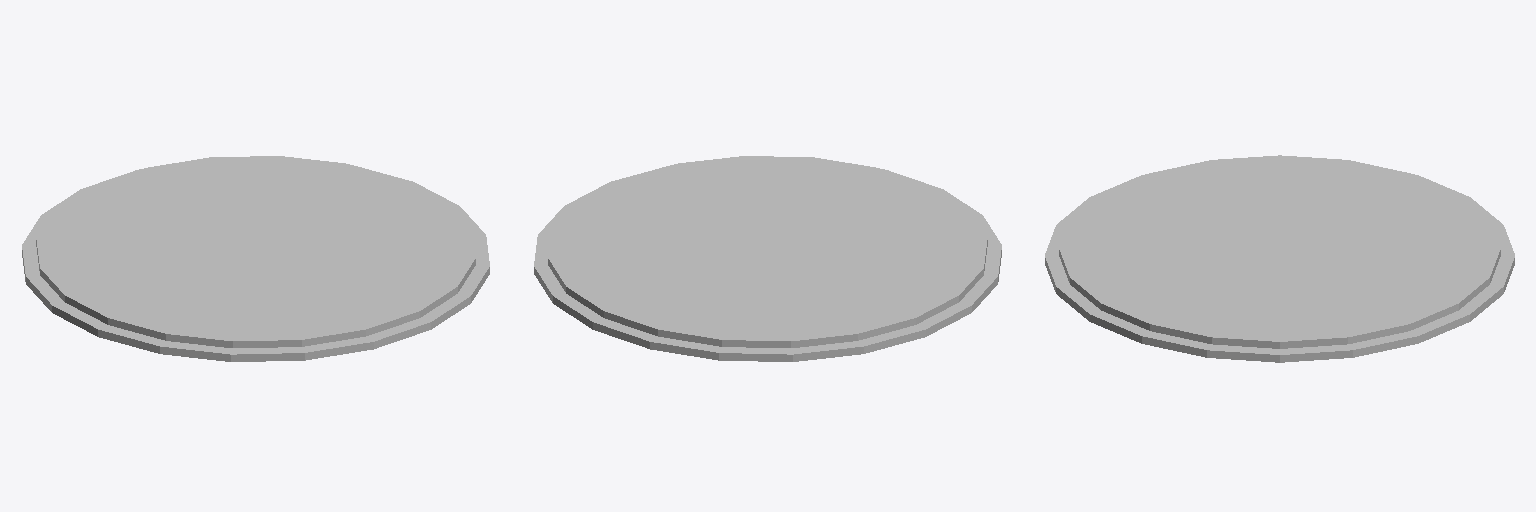
File: diasThing.obj
3 renders of one model, left to right at view 1: azimuth 30°, elevation 25°; view 2: azimuth 150°, elevation 25°; view 3: azimuth 270°, elevation 25°, orthographic.
Visible parts, largest first — view 1: pCylinder3_pCylinder3_1001, pCylinder2_pCylinder2_1001; view 2: pCylinder3_pCylinder3_1001, pCylinder2_pCylinder2_1001; view 3: pCylinder3_pCylinder3_1001, pCylinder2_pCylinder2_1001.
Boxes of the visible parts, x1=… form: pCylinder3_pCylinder3_1001: x1=36, y1=156, x2=475, y2=347; pCylinder2_pCylinder2_1001: x1=22, y1=165, x2=489, y2=361; pCylinder3_pCylinder3_1001: x1=548, y1=156, x2=987, y2=347; pCylinder2_pCylinder2_1001: x1=534, y1=165, x2=1001, y2=361; pCylinder3_pCylinder3_1001: x1=1059, y1=155, x2=1500, y2=348; pCylinder2_pCylinder2_1001: x1=1045, y1=174, x2=1514, y2=362.
Size of the model in its own units: 1803 by 61.91 by 1803.